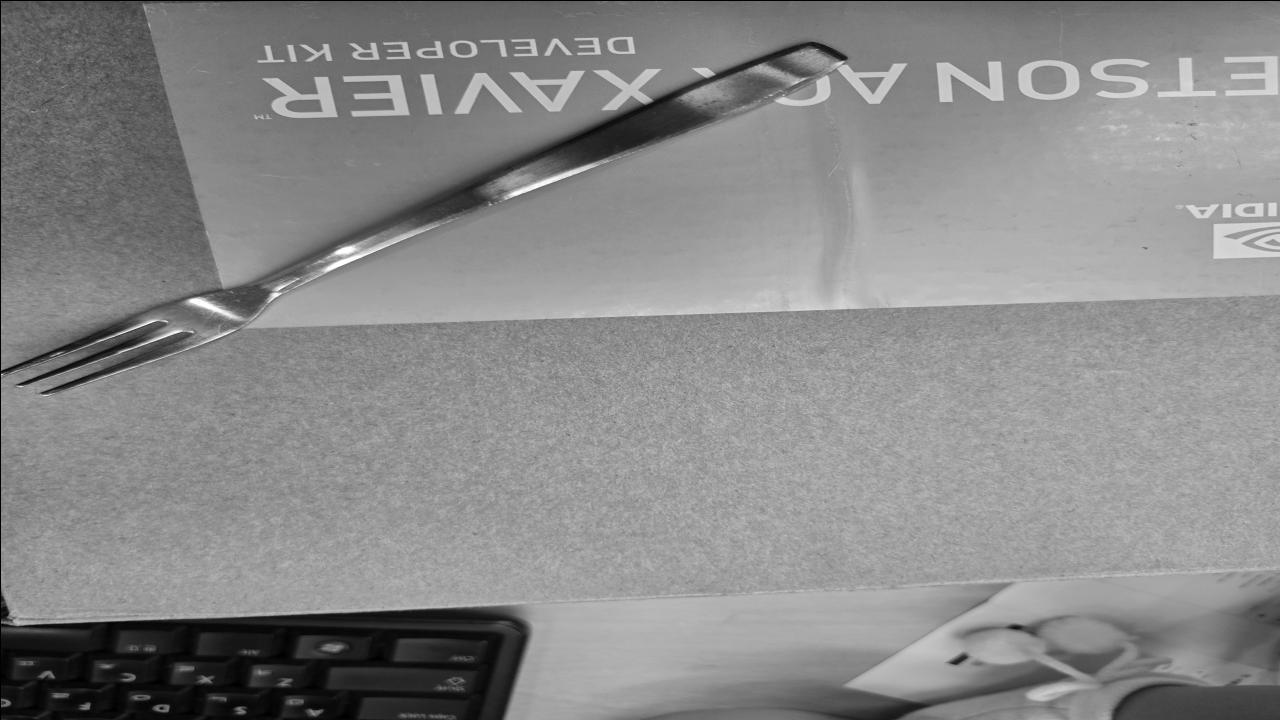fork: (0, 44, 845, 396)
